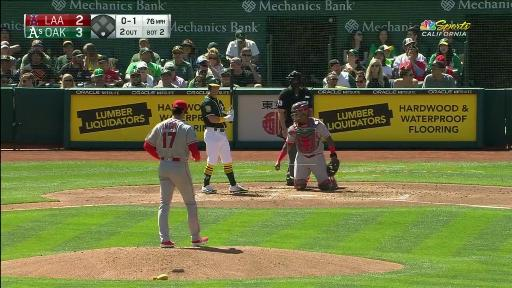pitcher: (144, 99, 210, 247)
